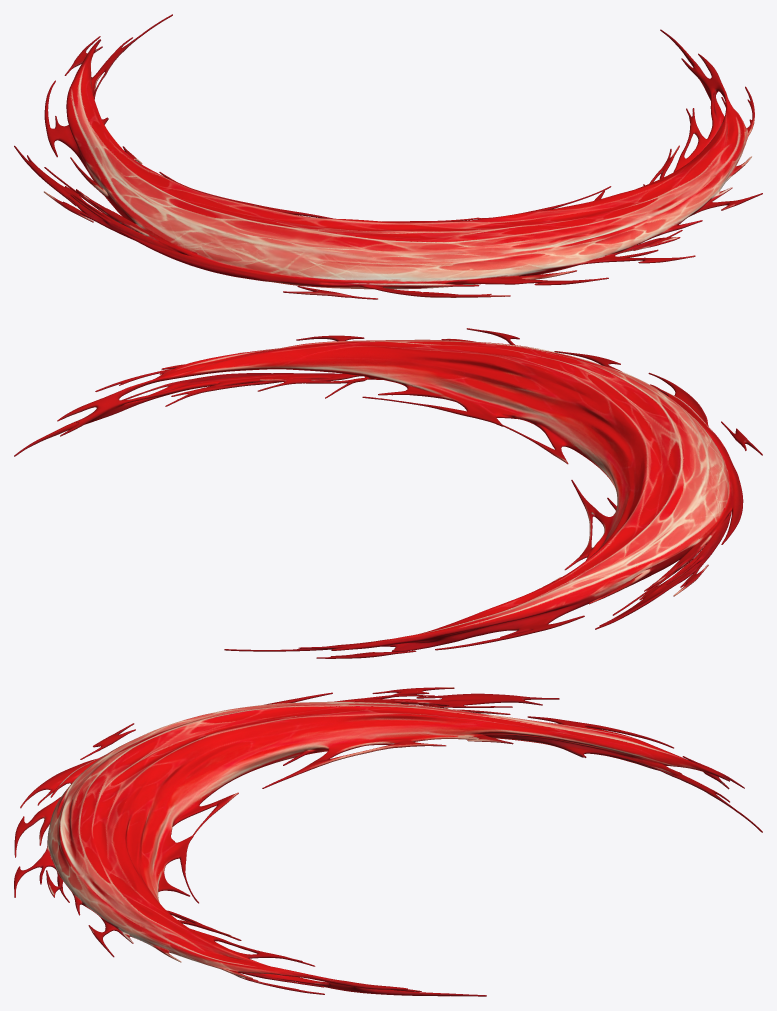
Rendered from atk-red-slash.glb.
The picture shows the model from 3 angles, top to bottom: view 1: azimuth 30°, elevation 25°; view 2: azimuth 150°, elevation 25°; view 3: azimuth 270°, elevation 25°; orthographic projection. The views are drawn at different scales.
Size of the model in its own units: 1.82 by 0.1168 by 1.89.
1 material, 1 textured.
